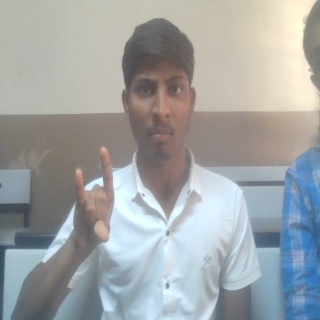Face: (119, 16, 199, 162)
I Love You: (71, 145, 118, 252)
